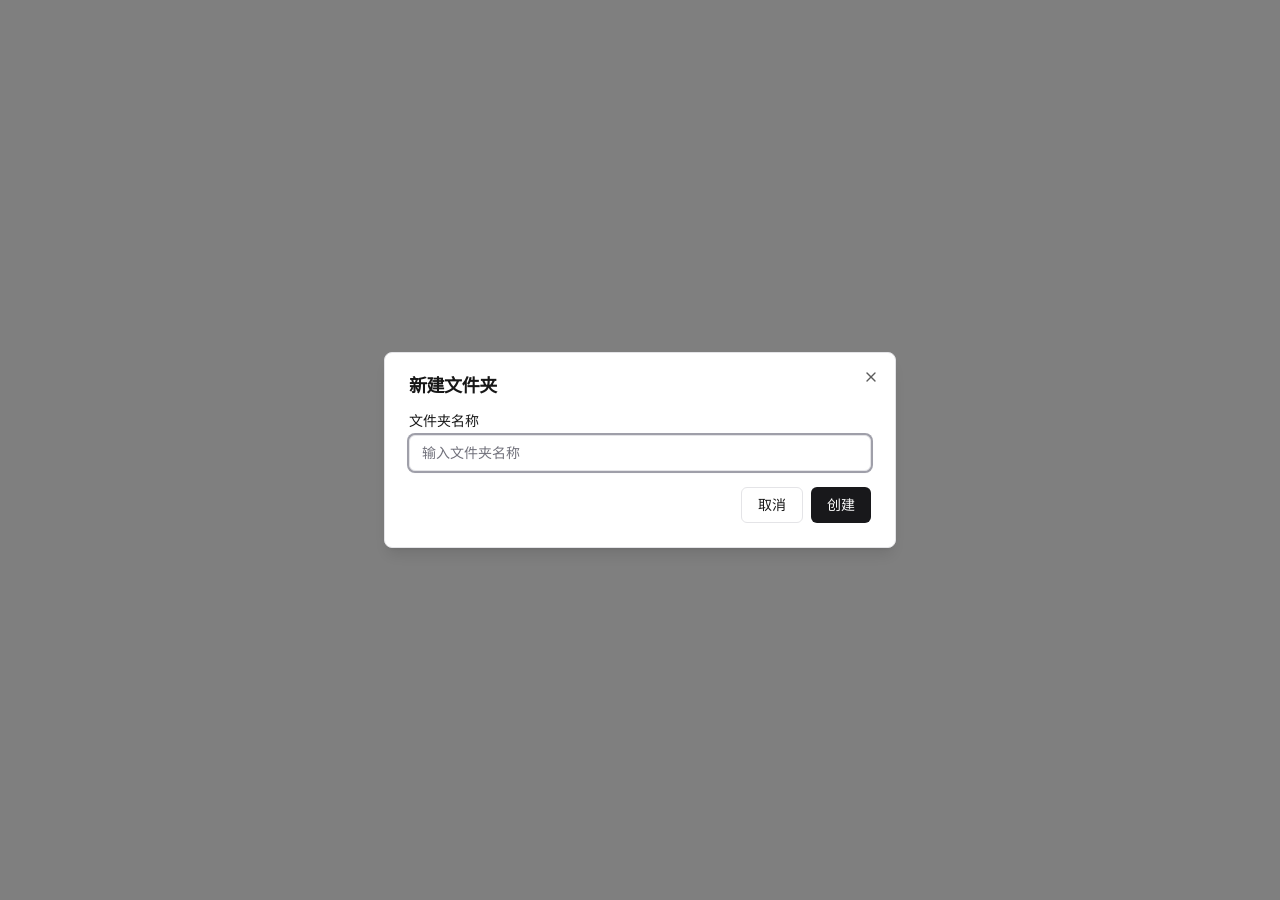
Scenario: CreateFolderDialog › disables button while submitting
Type "Test" into the field with placeholder "输入文件夹名称" at (640, 453), box x1=409 y1=435 x2=871 y2=471
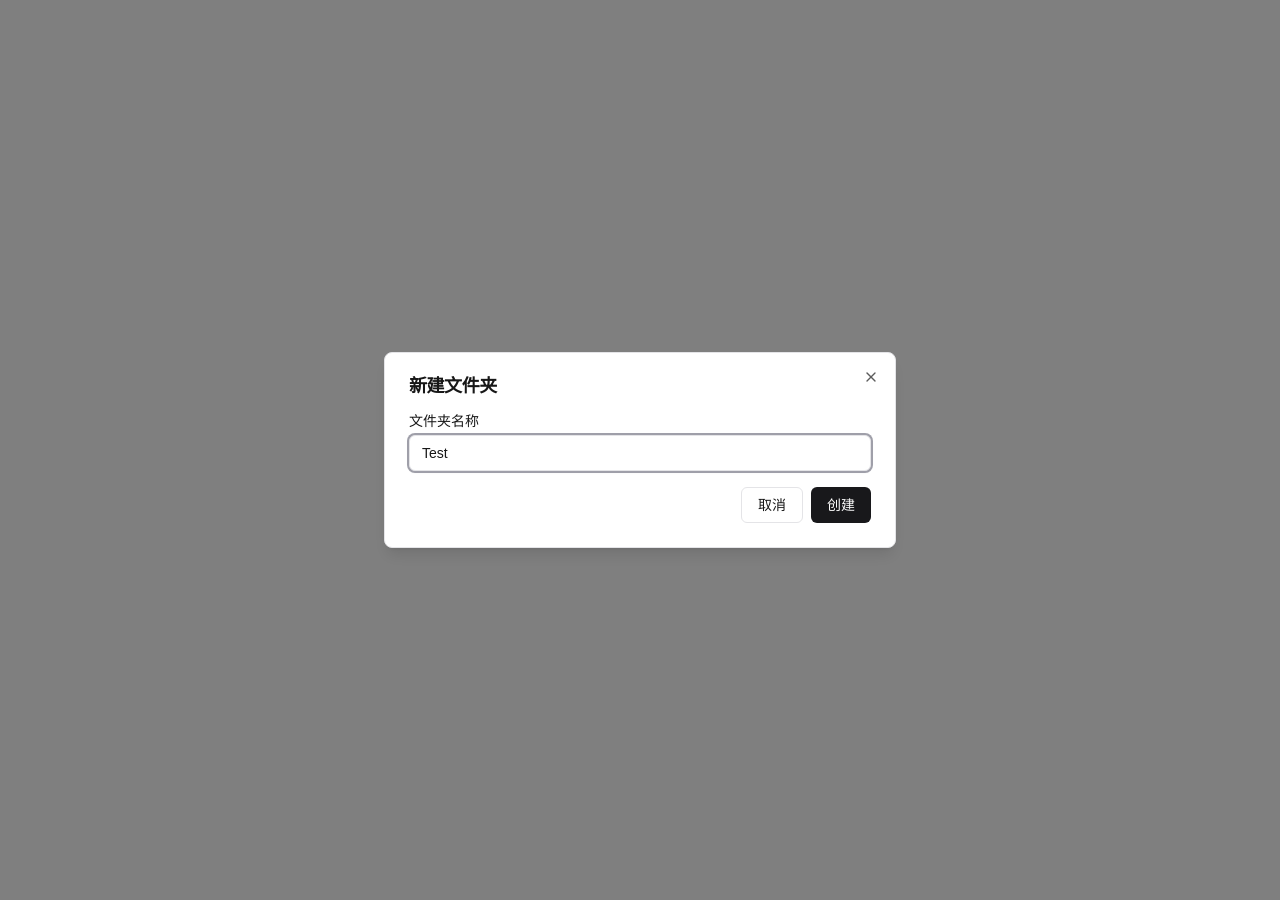
Click the button "创建" at (841, 505), box x1=811 y1=487 x2=871 y2=523
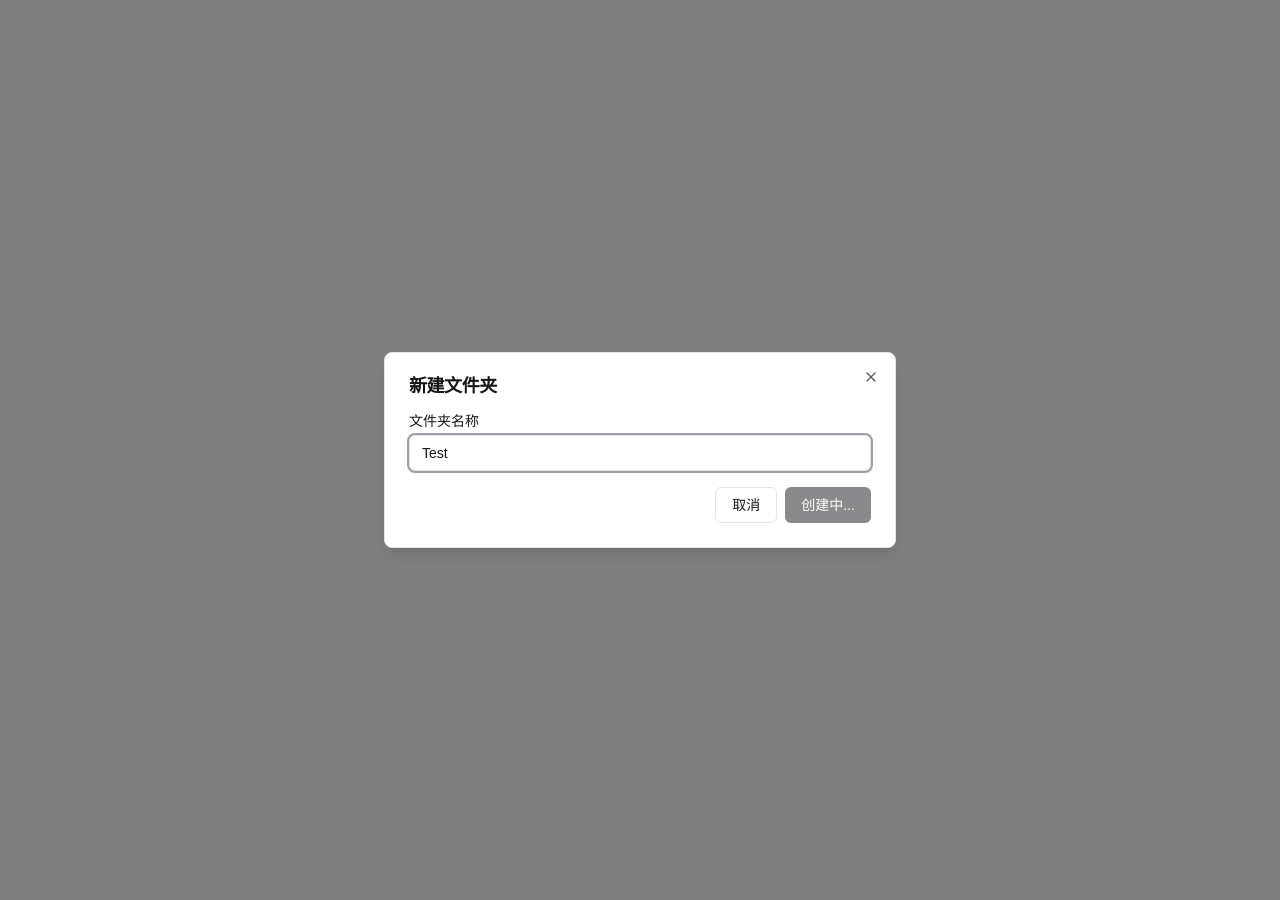
Now the button "创建中..." is disabled, box x1=785 y1=487 x2=871 y2=523
